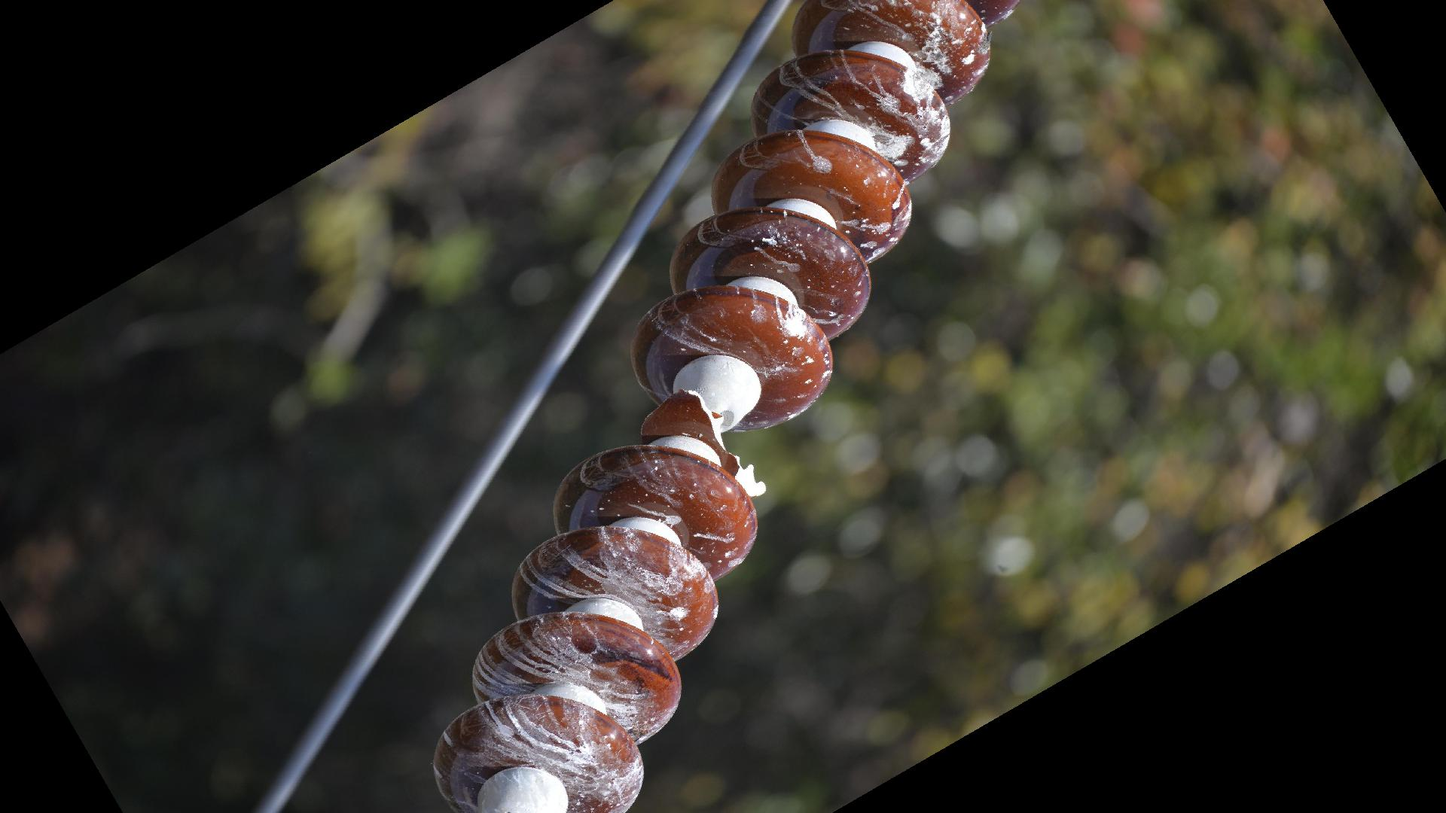insulator: (426, 1, 1024, 813)
insulator_breakage: (638, 382, 776, 504)
